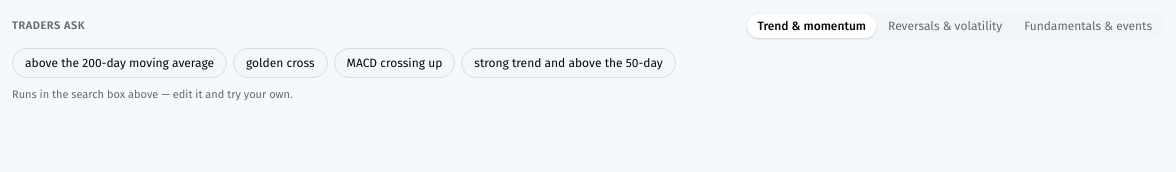
Scenario: TradersAsk — the strip inside Hot Market Picks › switches the visible set when a tab is picked
Click the button with test id "query-tab-fundamentals": [1088, 26] box [1014,14,1162,38]
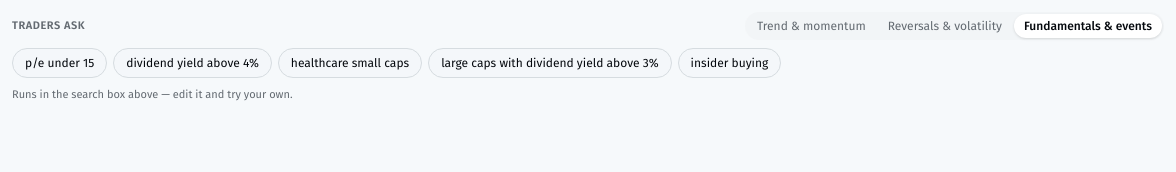
Now the button with test id "example-query" reads "p/e under 15", box [12,48,107,78]
